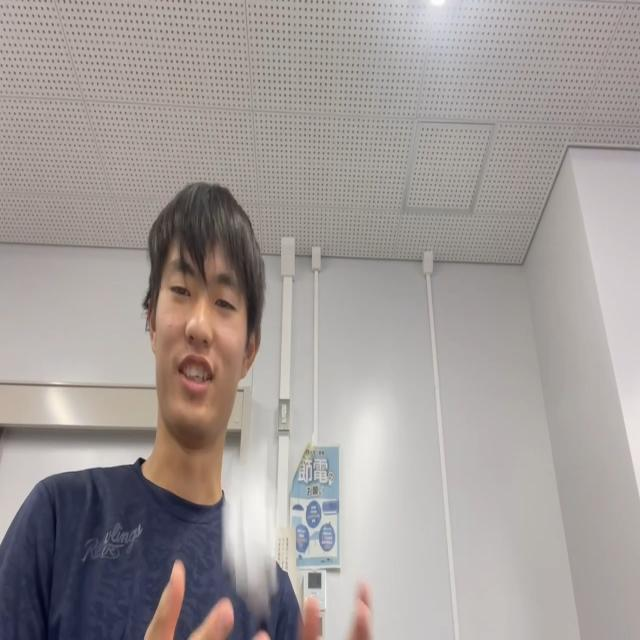paper: (224, 463, 285, 618)
